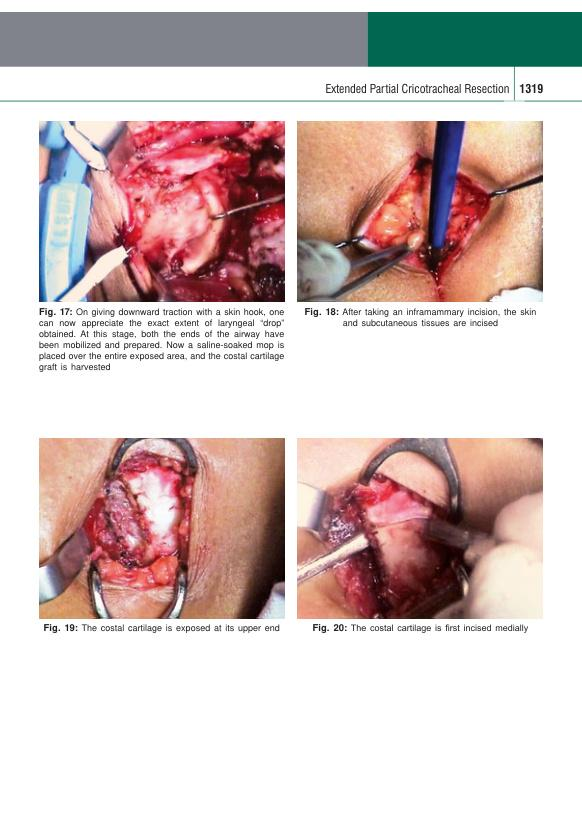caption: (37, 305, 285, 374), (304, 306, 538, 329), (43, 623, 282, 634), (312, 623, 529, 634)
header: (324, 81, 510, 95)
image: (38, 120, 286, 304), (38, 437, 285, 621), (296, 437, 544, 620), (297, 120, 544, 303)
